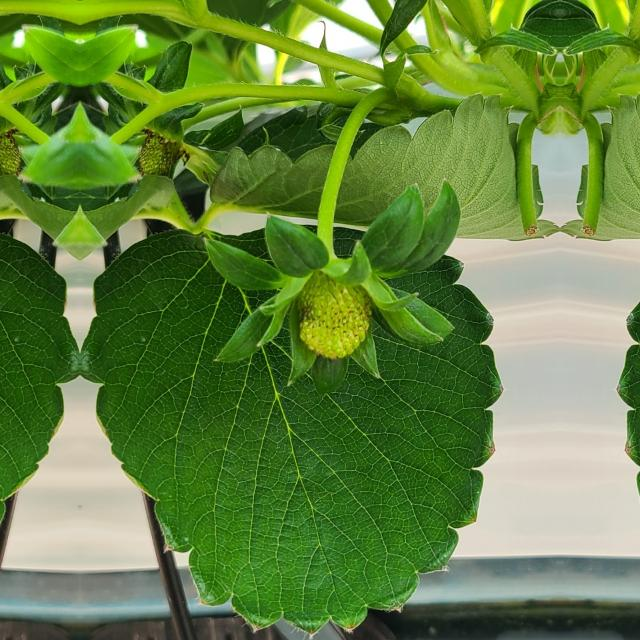Health_25: (300, 272, 372, 358)
